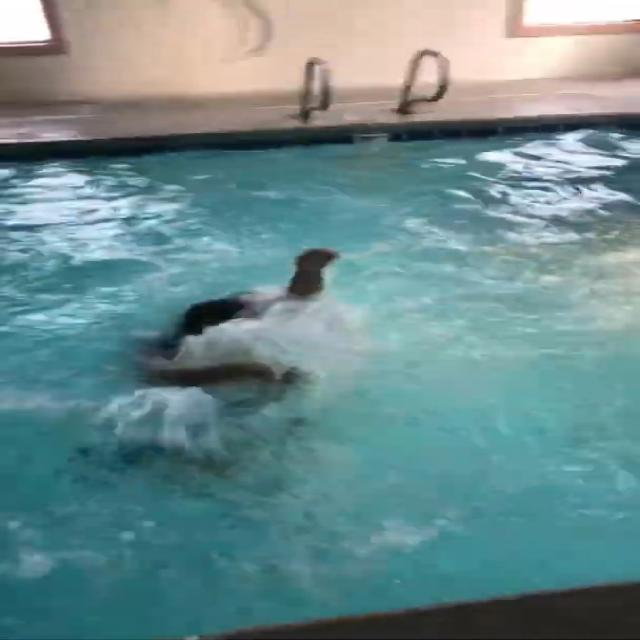Drowning: (67, 233, 426, 538)
